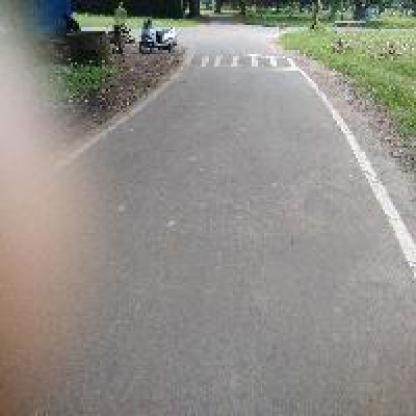Speed Bump: (181, 50, 304, 71)
